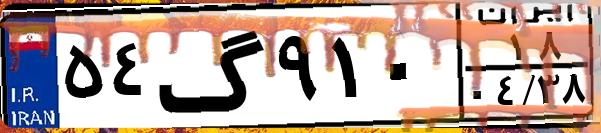0: (385, 28, 445, 110), (470, 70, 495, 125)
1: (330, 28, 385, 110), (508, 27, 537, 80)
3: (535, 70, 560, 125)
4: (110, 28, 156, 98), (495, 70, 520, 125)
5: (57, 26, 110, 100)
8: (560, 70, 590, 125), (537, 27, 568, 80)
9: (270, 28, 330, 110)
گ: (156, 12, 270, 120)
